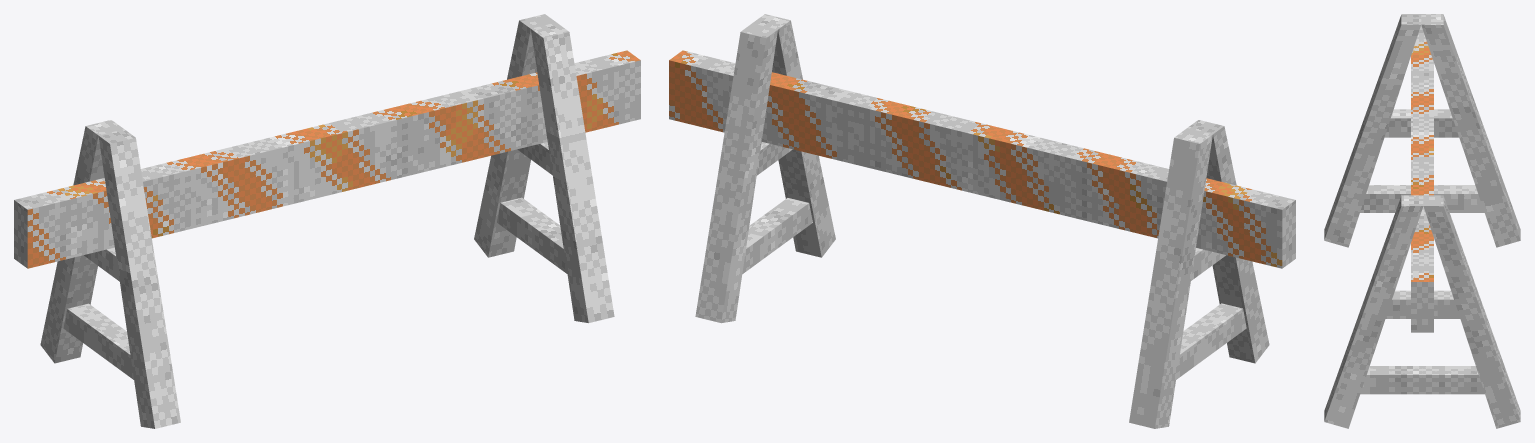
The model's file is pixel_a-frame.glb.
The picture shows the model from 3 angles, left to right: view 1: azimuth 30°, elevation 25°; view 2: azimuth 150°, elevation 25°; view 3: azimuth 270°, elevation 25°; orthographic projection. The views are drawn at different scales.
Parts seen in each view (by area): view 1: Cube_0; view 2: Cube_0; view 3: Cube_0.
Boxes of the visible parts, x1=… form: Cube_0: x1=14, y1=14, x2=640, y2=428; Cube_0: x1=669, y1=14, x2=1295, y2=428; Cube_0: x1=1324, y1=14, x2=1520, y2=428.
Bounding box in the file's own units: 3 × 1.22 × 0.9725.
1 material, 1 textured.
